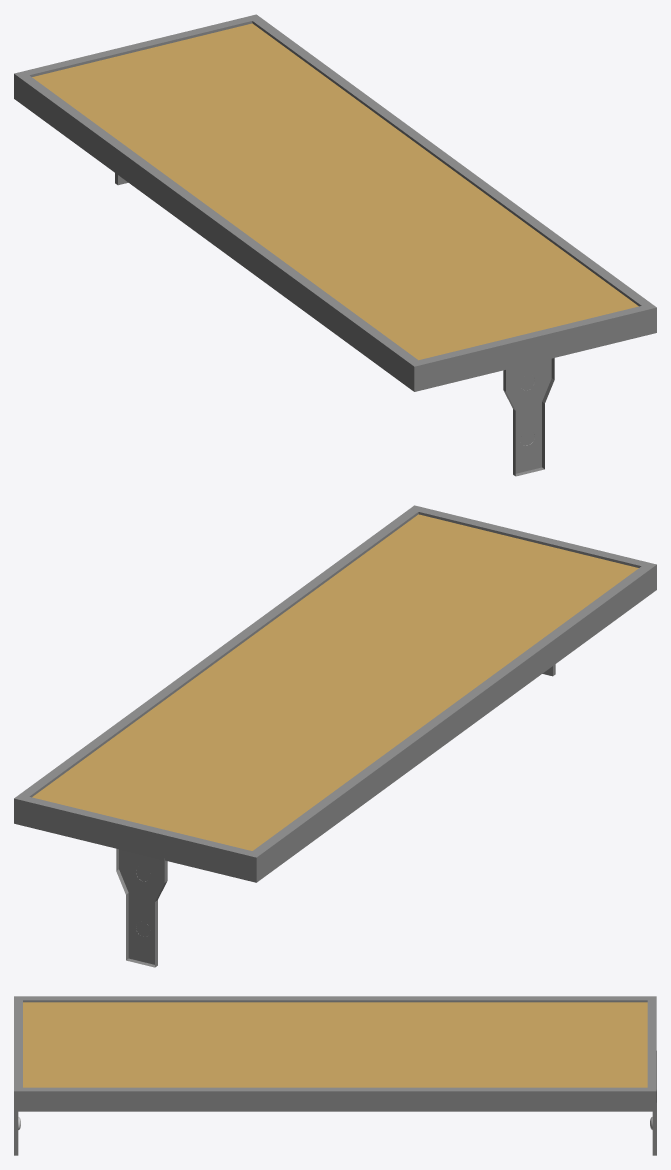
Rendered from Gun Desk.fbx.
The picture shows the model from 3 angles, top to bottom: view 1: azimuth 30°, elevation 25°; view 2: azimuth 150°, elevation 25°; view 3: azimuth 270°, elevation 25°; orthographic projection. The views are drawn at different scales.
Parts seen in each view (by area): view 1: Gun Desk; view 2: Gun Desk; view 3: Gun Desk.
Part boxes in pixels (bbox=[...]): Gun Desk: bbox=[14, 14, 656, 476]; Gun Desk: bbox=[14, 505, 656, 967]; Gun Desk: bbox=[14, 996, 656, 1155].
Bounding box in the file's own units: 50.01 × 26.51 × 143.
